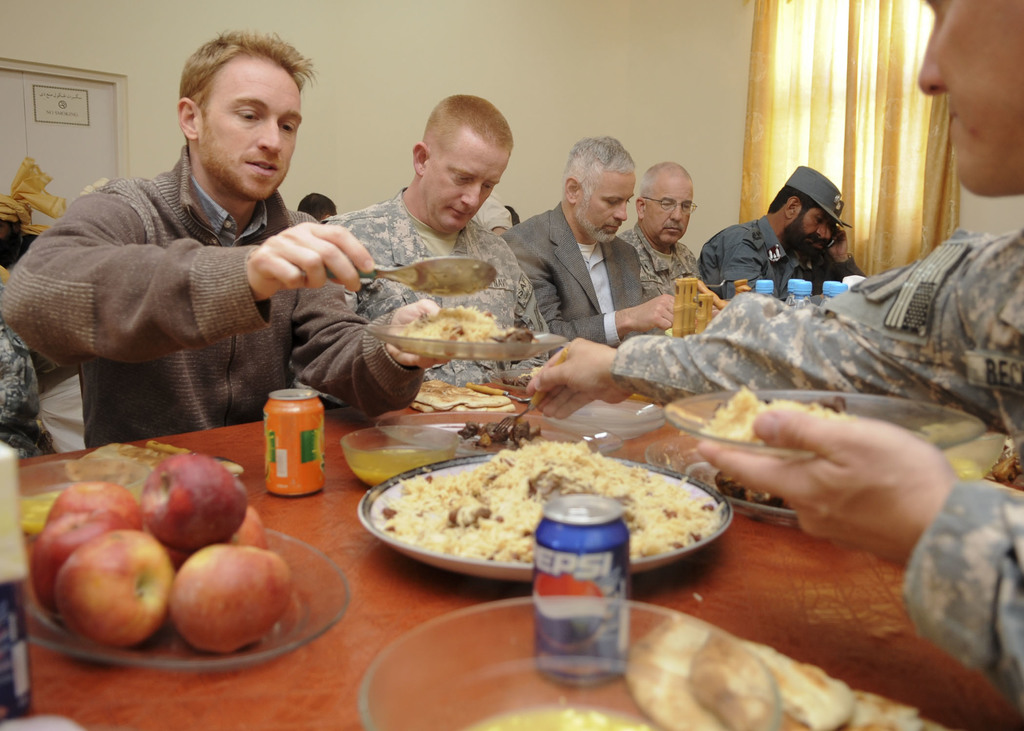Apple: (30, 453, 291, 654)
